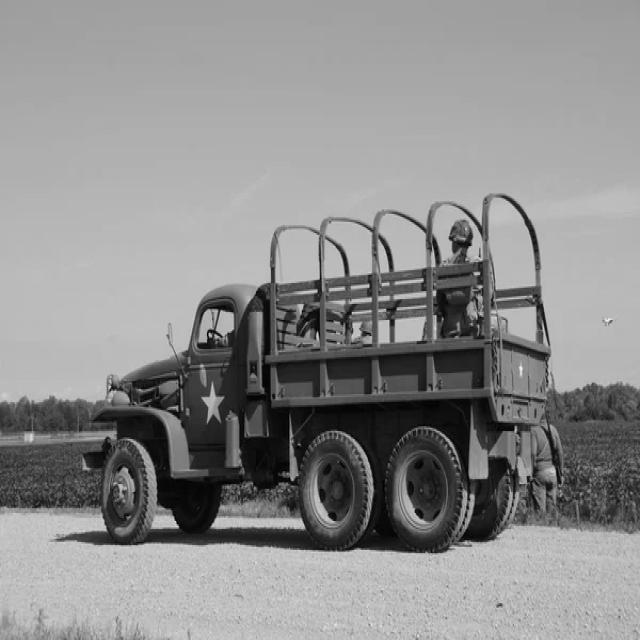Truck: (83, 193, 552, 552)
